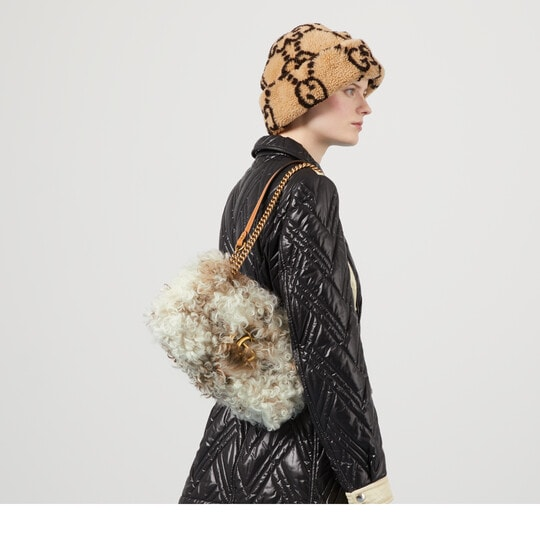Gucci: (146, 244, 315, 437), (230, 324, 269, 372)
